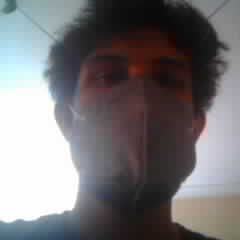with_mask: (75, 27, 194, 206)
